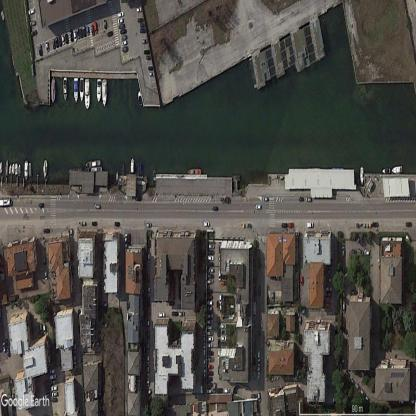ship: (84, 78, 90, 109), (96, 79, 102, 103), (51, 78, 56, 103), (103, 79, 107, 107), (84, 166, 101, 172), (63, 77, 67, 102), (74, 78, 78, 103), (80, 78, 84, 103), (86, 160, 100, 167), (24, 160, 28, 181), (44, 159, 48, 179), (138, 90, 143, 106), (14, 163, 18, 176), (28, 162, 31, 178), (131, 158, 134, 173), (153, 169, 156, 181), (6, 160, 8, 176), (18, 164, 20, 178), (0, 161, 2, 175), (12, 164, 14, 174), (9, 164, 11, 173)
